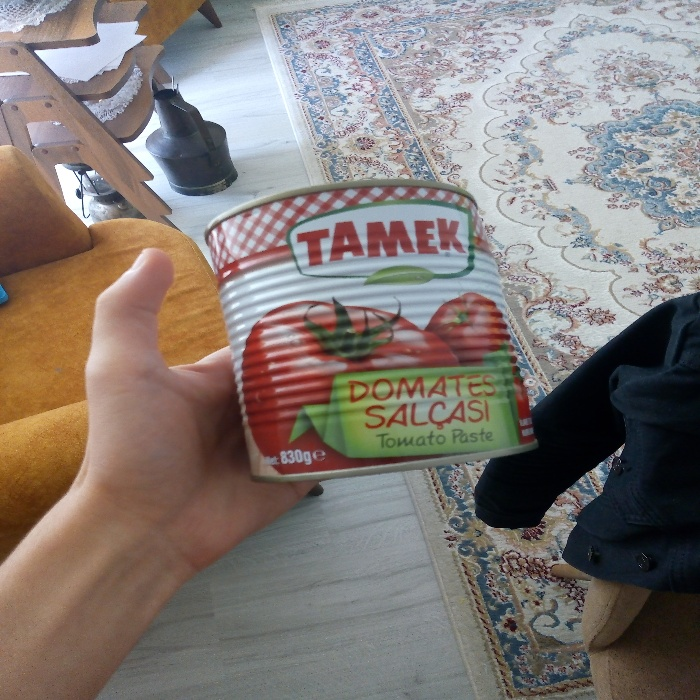salca: (198, 155, 550, 484)
